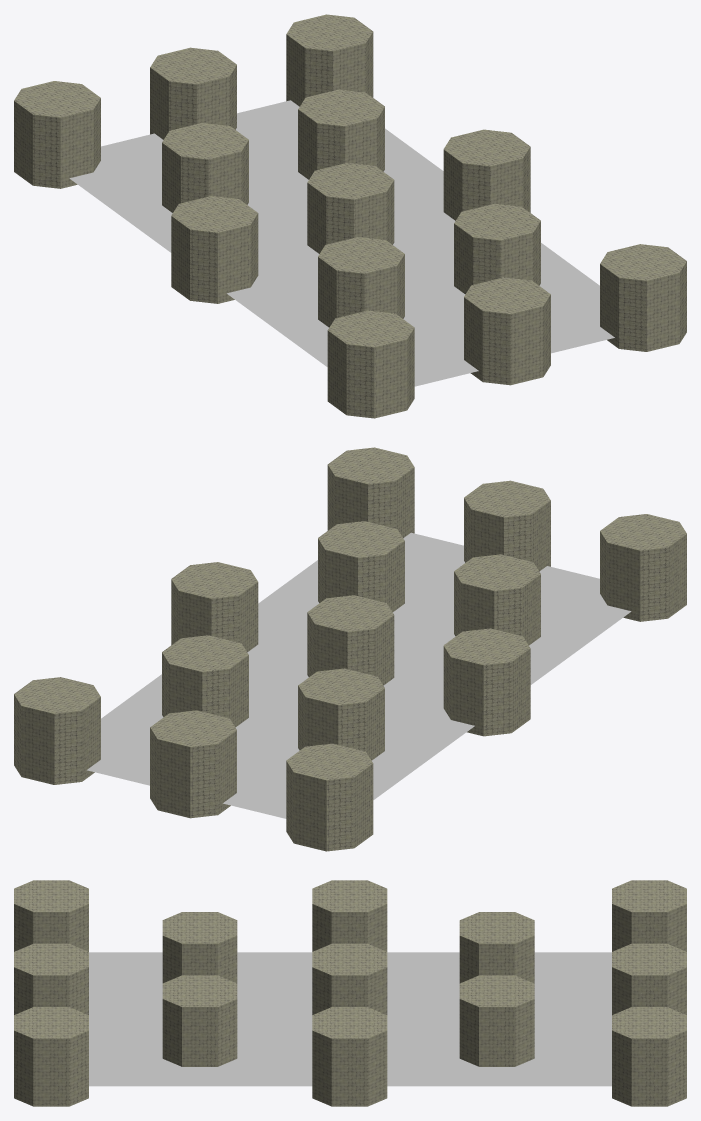
File: stadium_02.fbx
The picture shows the model from 3 angles, top to bottom: view 1: azimuth 30°, elevation 25°; view 2: azimuth 150°, elevation 25°; view 3: azimuth 270°, elevation 25°; orthographic projection. The views are drawn at different scales.
Parts seen in each view (by area): view 1: Octogon Pillars, stadium plane base; view 2: Octogon Pillars, stadium plane base; view 3: Octogon Pillars, stadium plane base.
Boxes of the visible parts, bbox=[...] form: Octogon Pillars: bbox=[14, 14, 686, 418]; stadium plane base: bbox=[69, 100, 614, 386]; Octogon Pillars: bbox=[14, 447, 686, 851]; stadium plane base: bbox=[87, 532, 631, 818]; Octogon Pillars: bbox=[14, 880, 686, 1106]; stadium plane base: bbox=[89, 952, 611, 1086].
Bounding box in the file's own units: 31.14 × 6.23 × 55.94.
